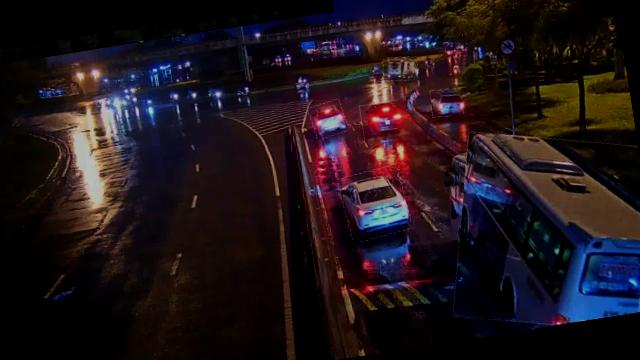Bus: (436, 114, 640, 338)
Car: (338, 164, 412, 243), (360, 99, 405, 142), (309, 99, 348, 139), (430, 86, 466, 118)
Truck: (382, 53, 419, 83)
